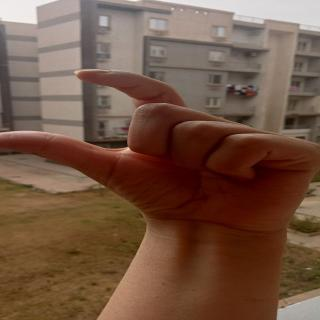DELL: (2, 55, 320, 233)
